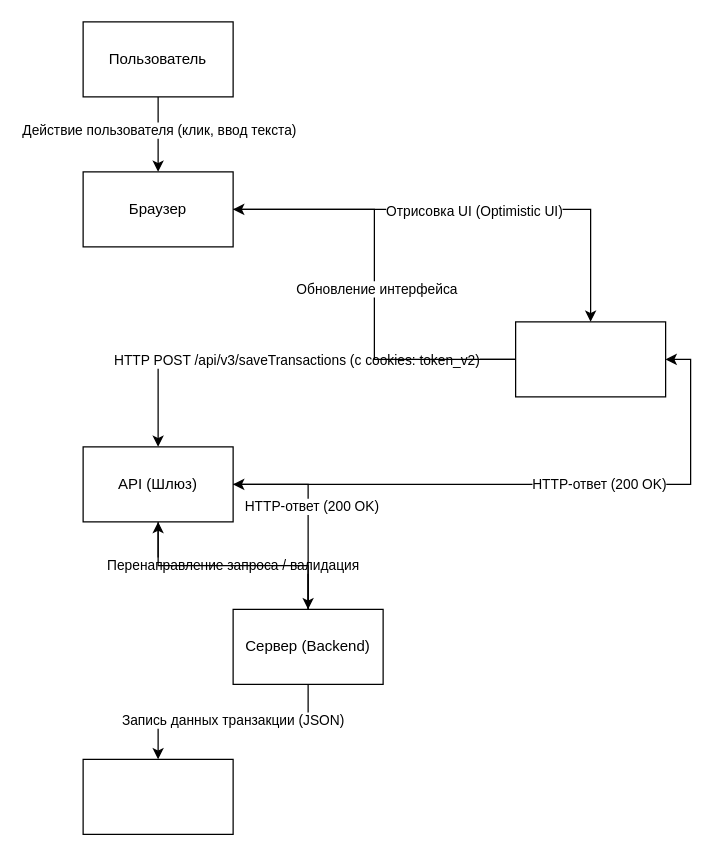
Some shapes in this 723 by 856 pixel diagram are drawn without their labels. Each missing label, with the centre of its shape:
"Frontend" belongs at point 590,359.
"База данных (Хранилище)" belongs at point 157,796.
